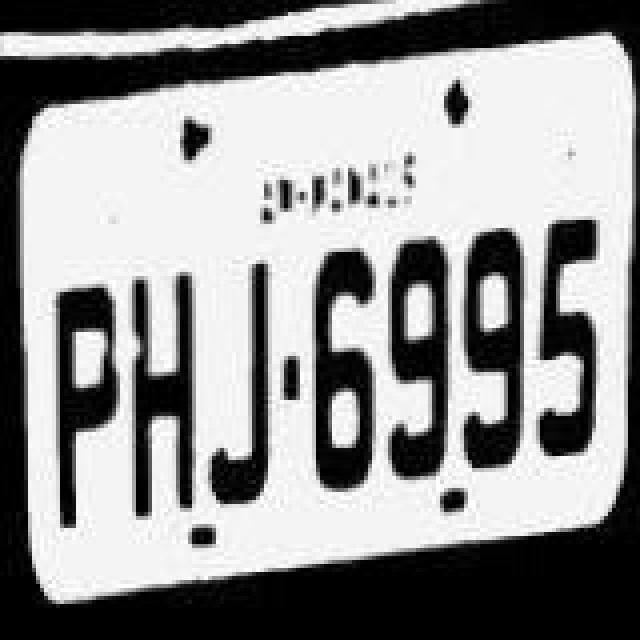5: (528, 210, 604, 466)
6: (302, 246, 382, 498)
9: (376, 226, 452, 486), (454, 218, 526, 474)
H: (118, 268, 198, 528)
J: (198, 256, 270, 508)
P: (50, 278, 122, 538)
